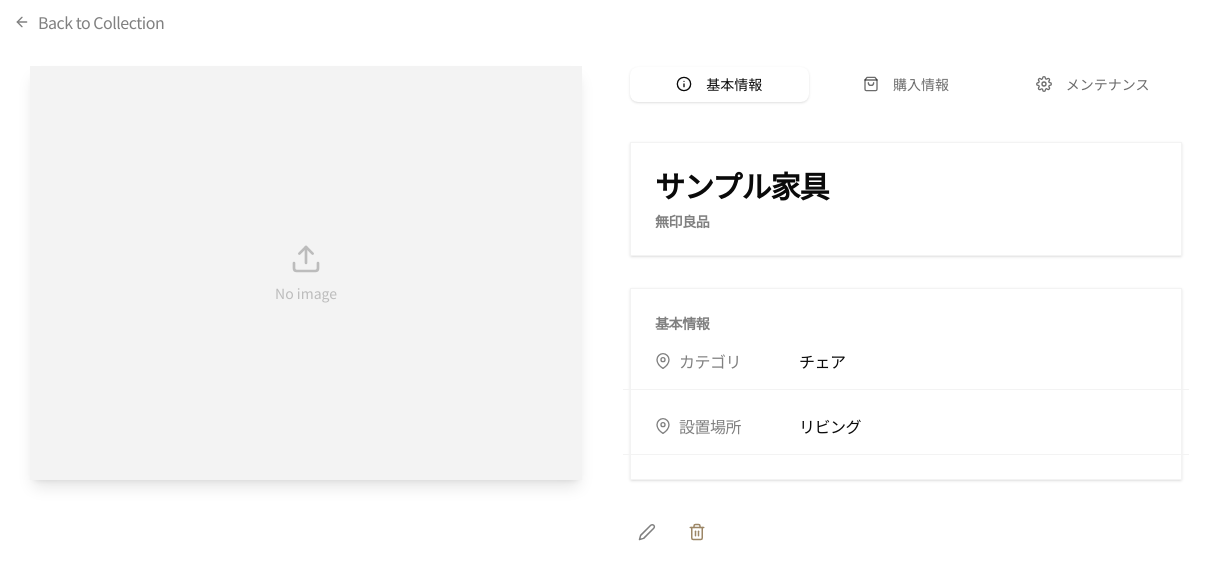
Test: FurnitureDetailClient › 編集機能 › キャンセルボタンで編集モードが解除される
編集モードに切り替え
What coordinates should you click on to do the following:
click the button named "編集"
I would click on:
 (647, 532)
Its box is left=630, top=512, right=664, bottom=552.
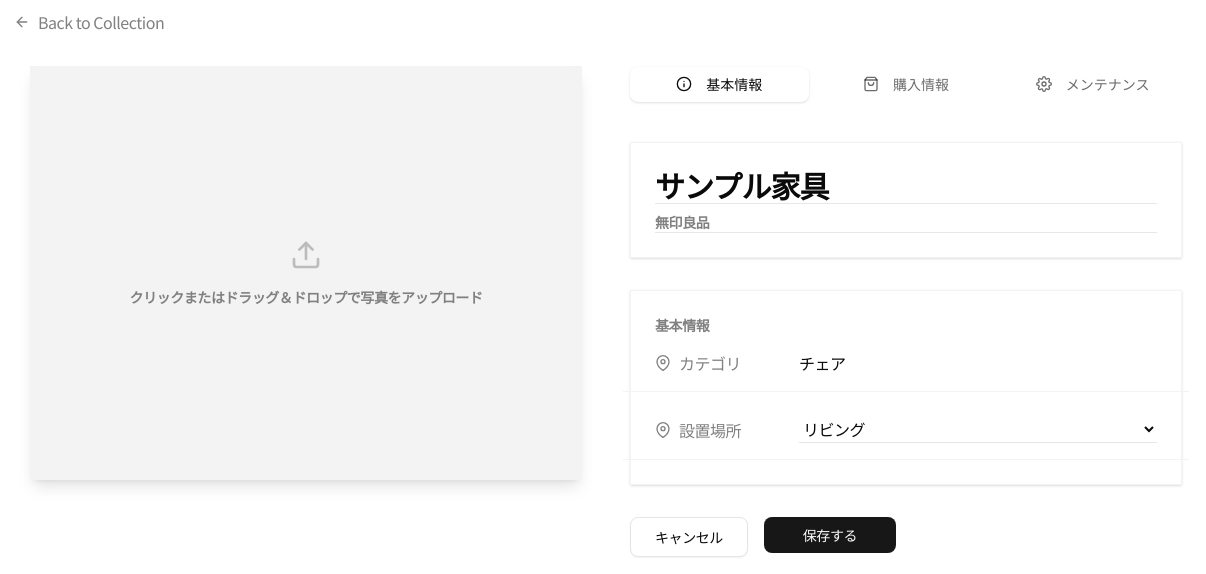
Expected: the button "キャンセル" is shown
キャンセルをクリック
What coordinates should you click on to do the following:
click the button "キャンセル"
I would click on:
 (689, 537)
Its box is left=630, top=517, right=748, bottom=557.
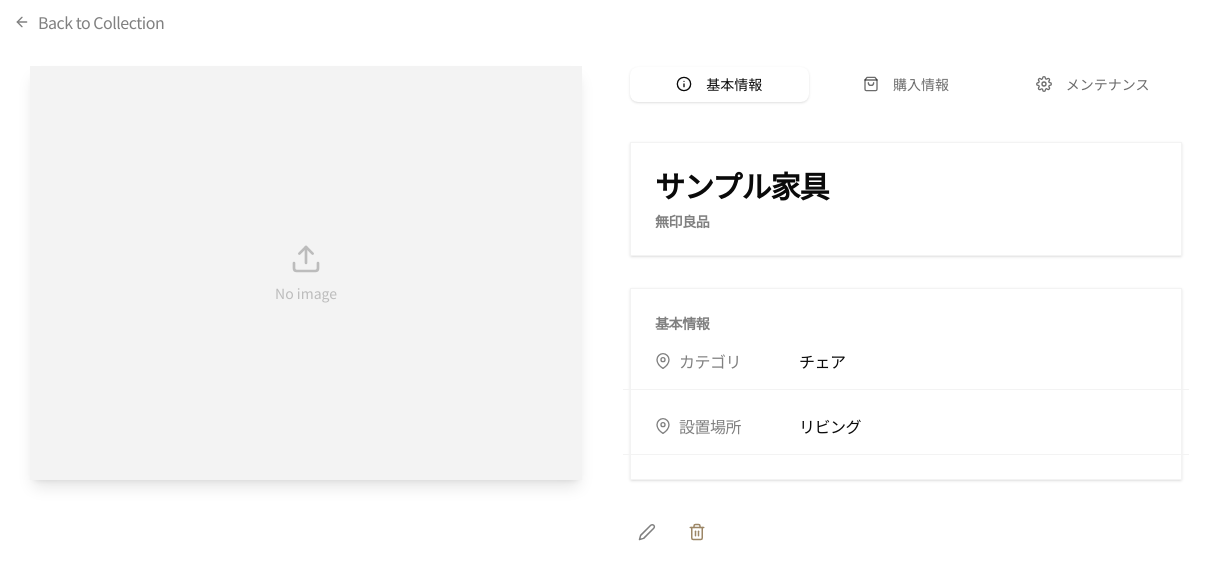
Expected: the button named "編集" is shown, left=630, top=512, right=664, bottom=552
